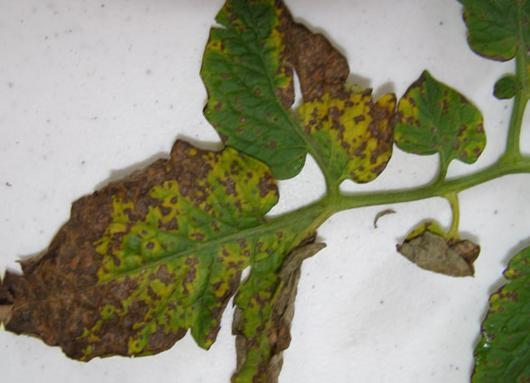Tomato Septoria leaf spot: (0, 143, 283, 364), (190, 0, 409, 196), (218, 233, 341, 383), (459, 218, 530, 383), (386, 65, 484, 173), (439, 0, 530, 111)
